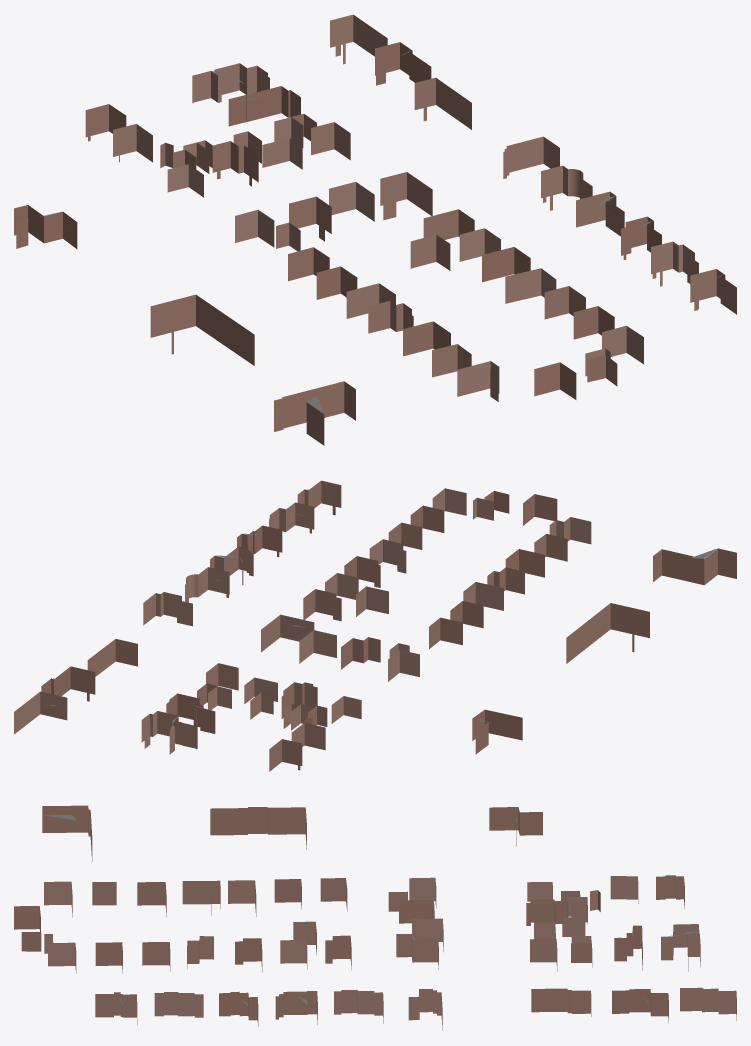
File: c_1642_17821_buildings_residential.glb
3 views of the same model, one above another, from view 1: azimuth 30°, elevation 25°; view 2: azimuth 150°, elevation 25°; view 3: azimuth 270°, elevation 25° (orthographic). The views are drawn at different scales.
Visible parts, largest first — view 1: geometry_0; view 2: geometry_0; view 3: geometry_0.
Boxes of the visible parts, x1,y1,x2,y2 form: geometry_0: (14, 14, 736, 445); geometry_0: (14, 480, 736, 771); geometry_0: (14, 805, 736, 1030).
Bounding box in the file's own units: 176 × 11.08 × 267.
